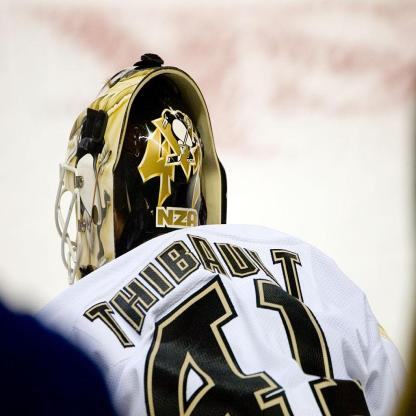Helmet: (52, 69, 220, 281)
